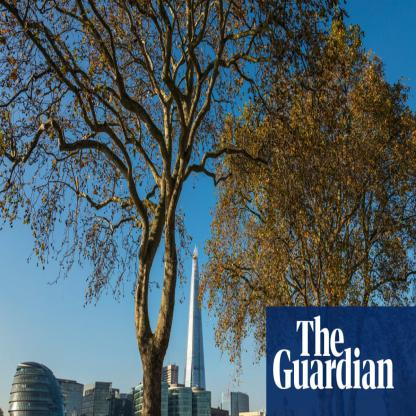Tree: (0, 0, 302, 415), (198, 0, 399, 415), (319, 0, 415, 415)
